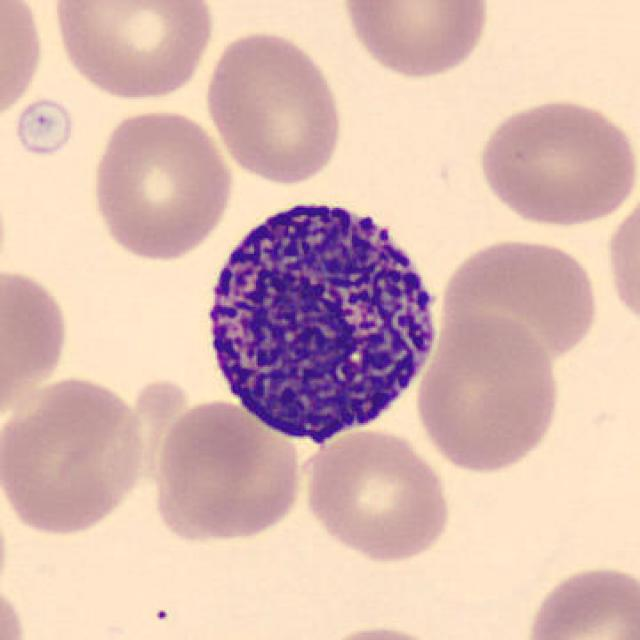Basophil: (190, 181, 450, 455)
RBC: (412, 308, 566, 478), (0, 374, 151, 539), (86, 104, 237, 264), (149, 395, 306, 546), (436, 231, 604, 372), (201, 26, 348, 187), (471, 93, 638, 230), (299, 425, 455, 564), (48, 0, 218, 102), (338, 0, 494, 81), (0, 259, 73, 429), (519, 559, 638, 640), (602, 185, 640, 336), (0, 0, 46, 123), (13, 92, 74, 164), (308, 622, 455, 640), (0, 573, 30, 640)
